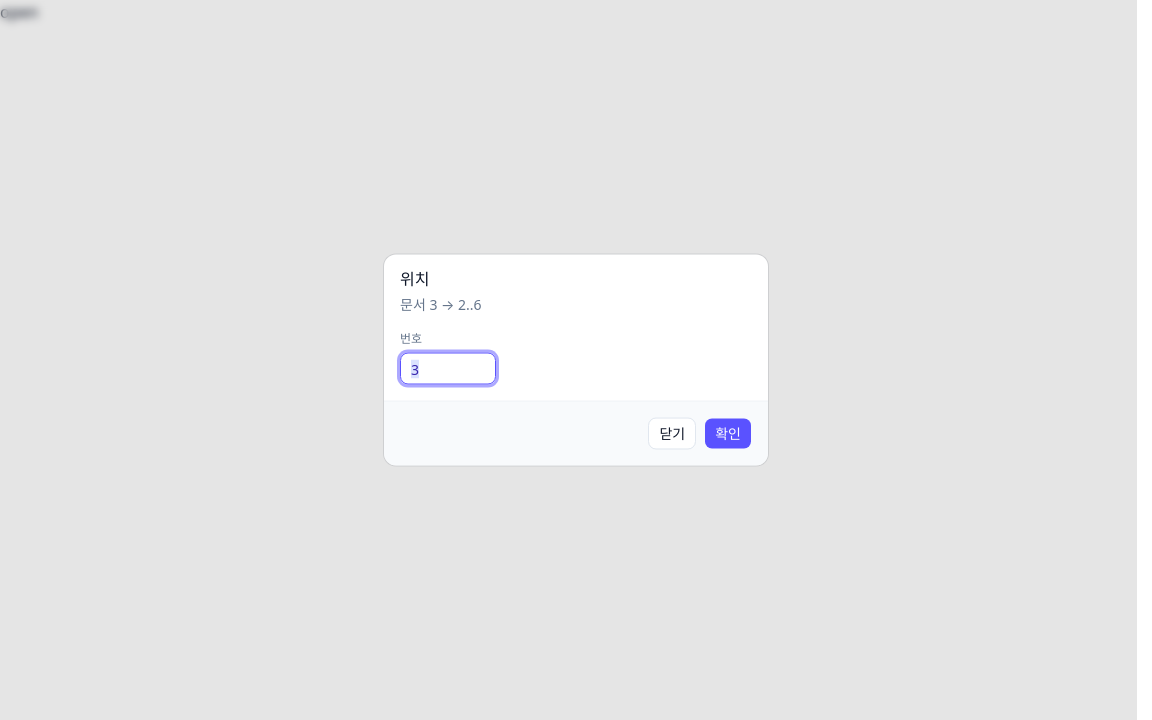
Test case: DocumentPositionDialog(Core) 검사와 onMove › 구간 밖·숫자 아님(x)은 labels.invalid 문구를 보이고 닫지 않는다
Replace the text in the field labelled "번호" with "x": (448, 368) [400,352,496,384]
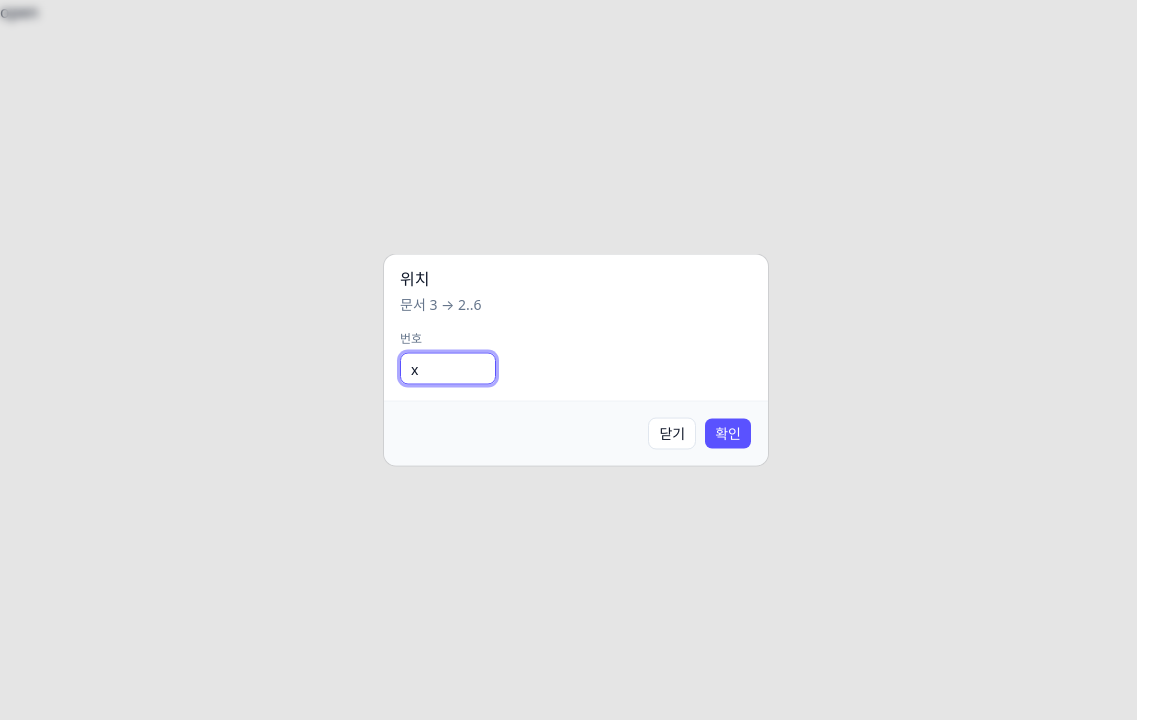
Click the button "확인": (728, 434) [704,418,752,450]
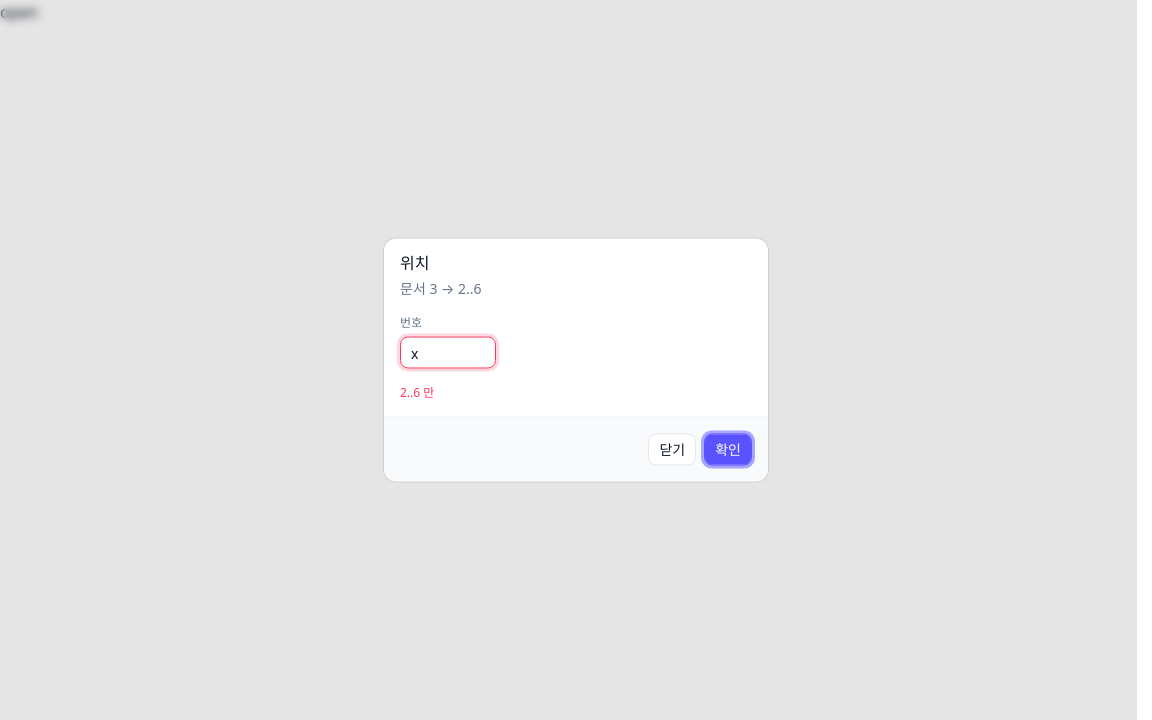
Expected: the message reads "2..6 만", [400,384,434,400]
